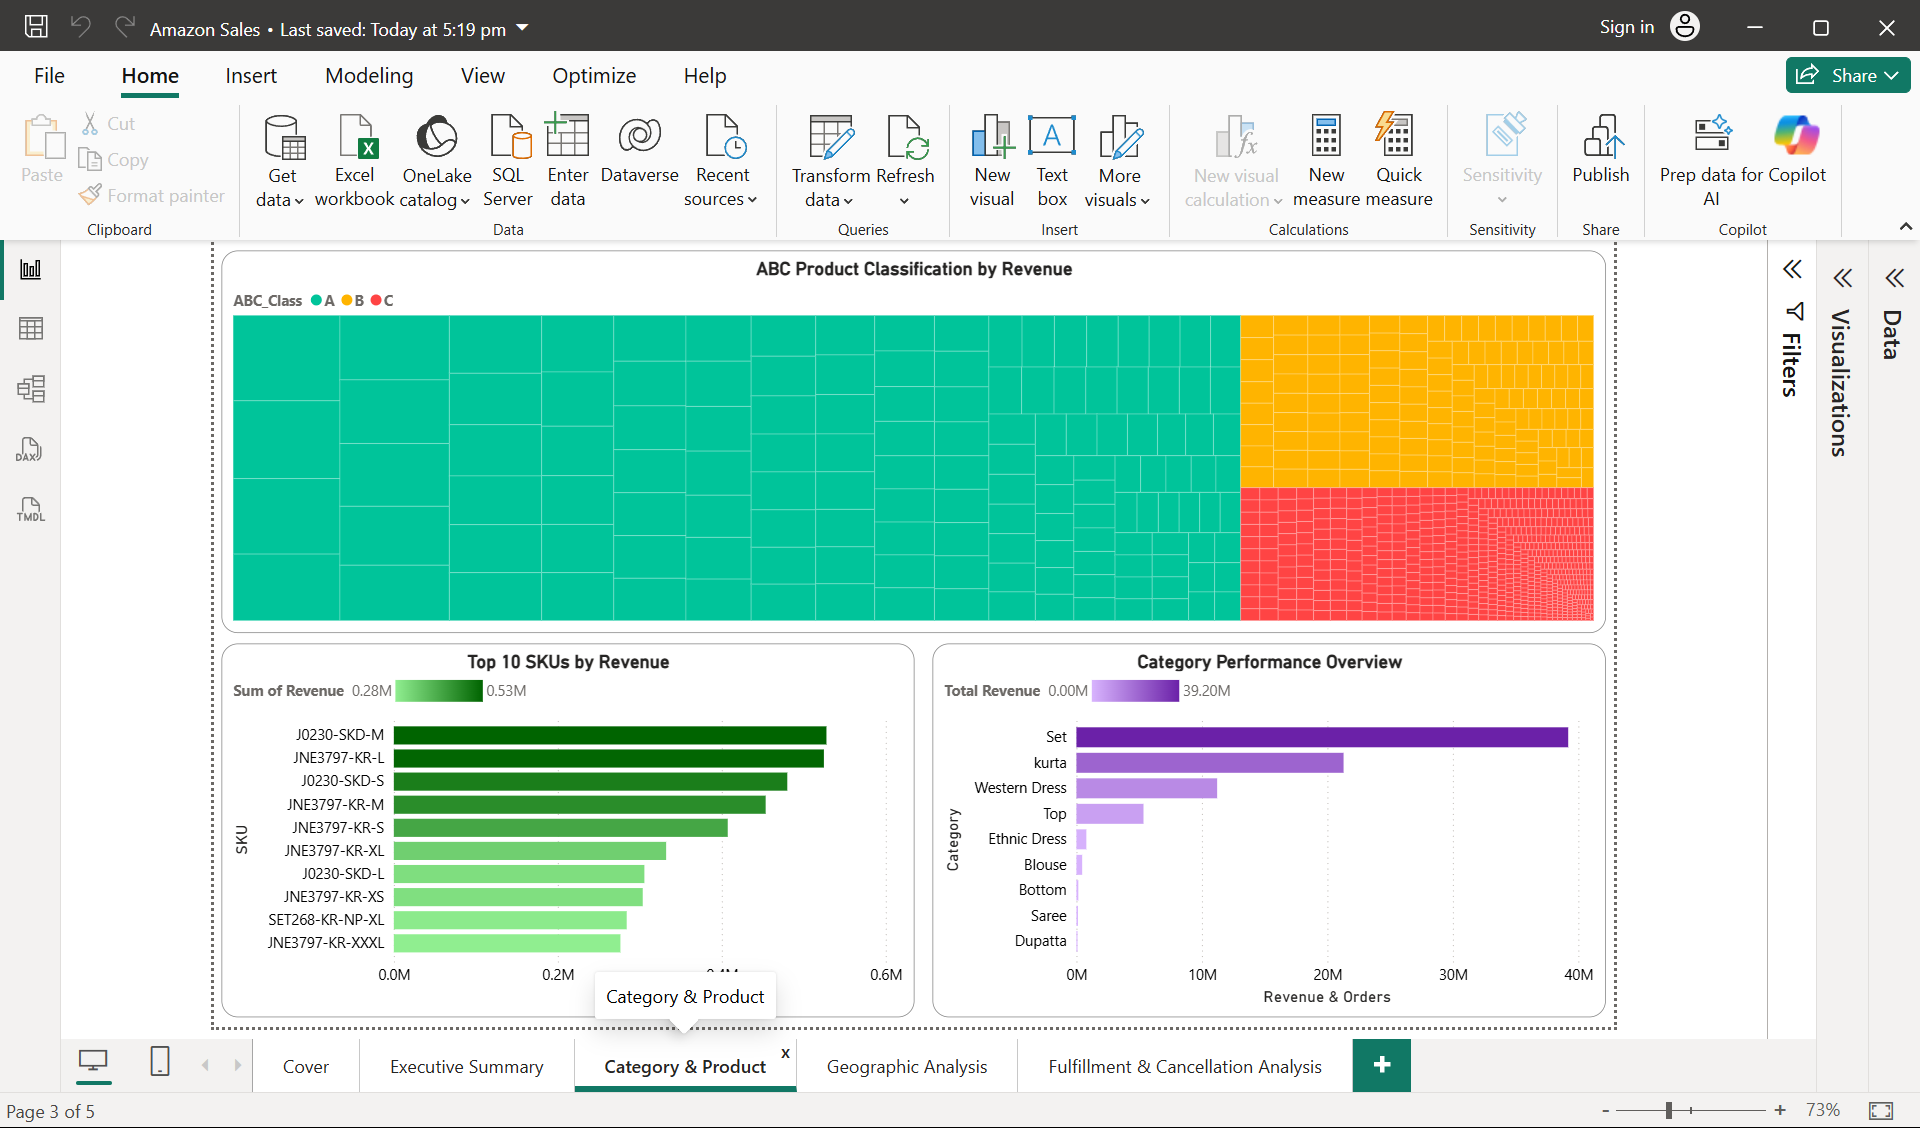

What the dashboard file says about the page in this screenshot:
{"tool":"powerbi","page":{"name":"Category & Product","canvas":[1280,720],"ordinal":2},"visuals":[{"type":"treemap","title":"ABC Product Classification by Revenue","fields":{"Group":["sku_abc_classification.ABC_Class"],"Details":["sku_abc_classification.SKU"],"Values":["Sum(sku_abc_classification.Revenue)"]},"box":[6.9,9.6,1266.7,349.9],"z":0},{"type":"clusteredBarChart","title":"Top 10 SKUs by Revenue","fields":{"Category":["sku_abc_classification.SKU"],"Y":["Sum(sku_abc_classification.Revenue)"]},"box":[6.9,369.2,634,341.7],"z":1000},{"type":"clusteredBarChart","title":"Category Performance Overview","fields":{"Category":["powerbi_category_summary.Category"],"Y":["powerbi_category_summary.Total Revenue"]},"box":[657.3,369.2,616.2,341.7],"z":2000}]}

Visuals, with their boxes on the page's 1280x720 design canvas (x1, y1, x2, y2). These are canvas units, not pixel positions in the 1920x1128 screenshot, which may show the page scaled, cropped or inside an application window:
"ABC Product Classification by Revenue" treemap: BBox(7, 10, 1274, 360)
"Top 10 SKUs by Revenue" clusteredBarChart: BBox(7, 369, 641, 711)
"Category Performance Overview" clusteredBarChart: BBox(657, 369, 1274, 711)
